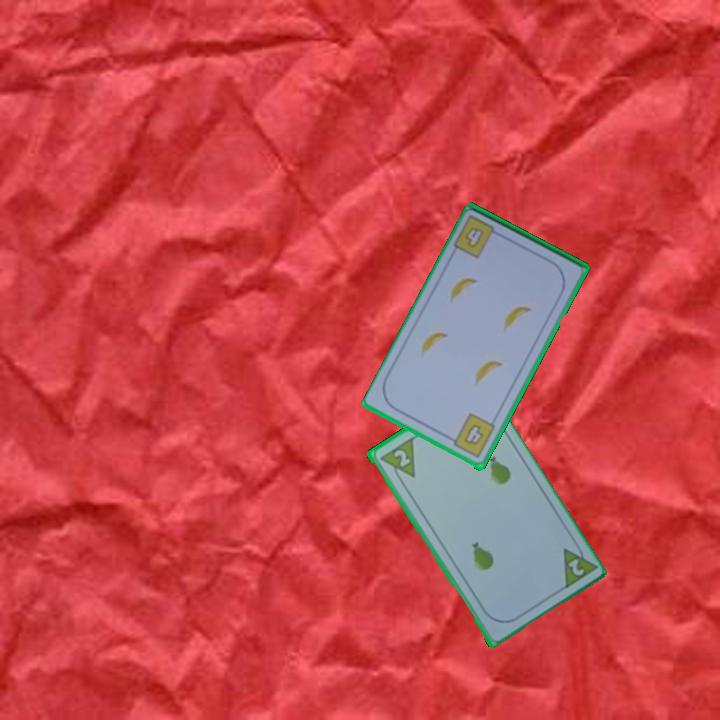2p: (558, 537, 599, 592), (389, 446, 413, 470)
4b: (445, 410, 498, 462), (461, 224, 487, 251)
